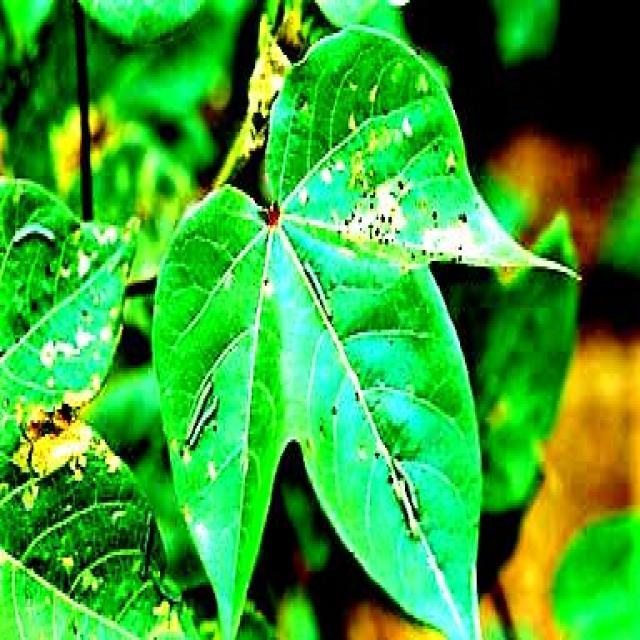armyworm: (184, 378, 220, 450), (13, 208, 55, 261)
